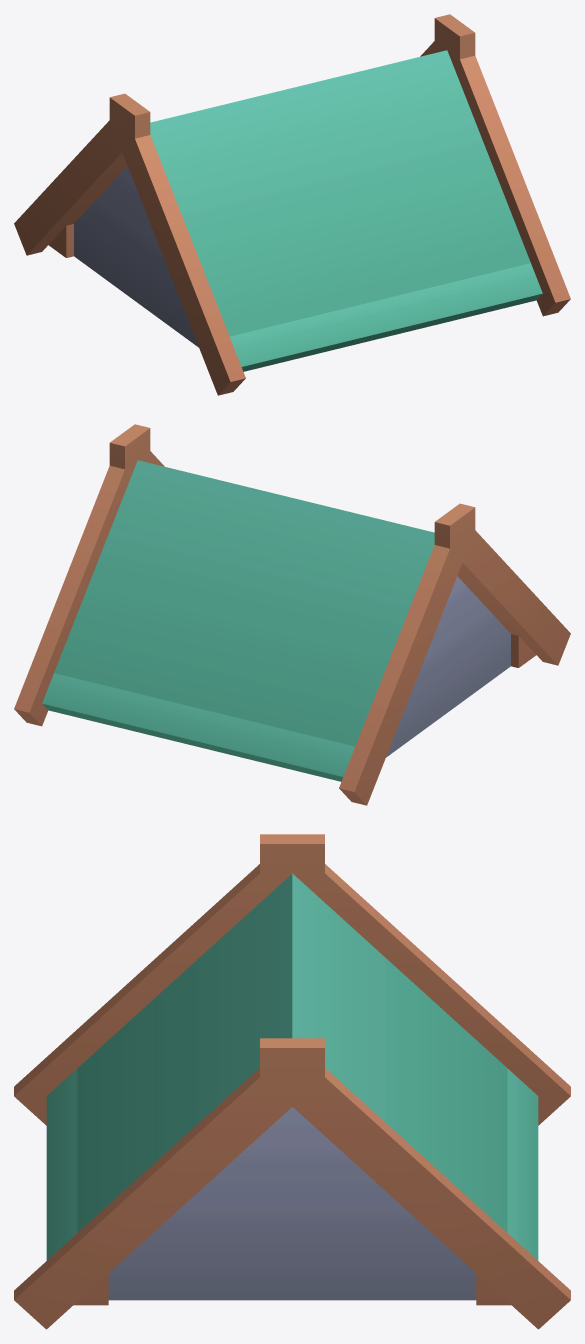
File: roof-gable-detail.glb
The picture shows the model from 3 angles, top to bottom: view 1: azimuth 30°, elevation 25°; view 2: azimuth 150°, elevation 25°; view 3: azimuth 270°, elevation 25°; orthographic projection. The views are drawn at different scales.
Parts seen in each view (by area): view 1: roof-gable-detail; view 2: roof-gable-detail; view 3: roof-gable-detail.
Boxes of the visible parts, left/top/right/bottom form: roof-gable-detail: left=14, top=14, right=570, bottom=395; roof-gable-detail: left=14, top=424, right=570, bottom=805; roof-gable-detail: left=14, top=834, right=570, bottom=1329.
Size of the model in its own units: 1.1 by 0.6767 by 1.21.
Materials: 1 (1 with a texture image).
